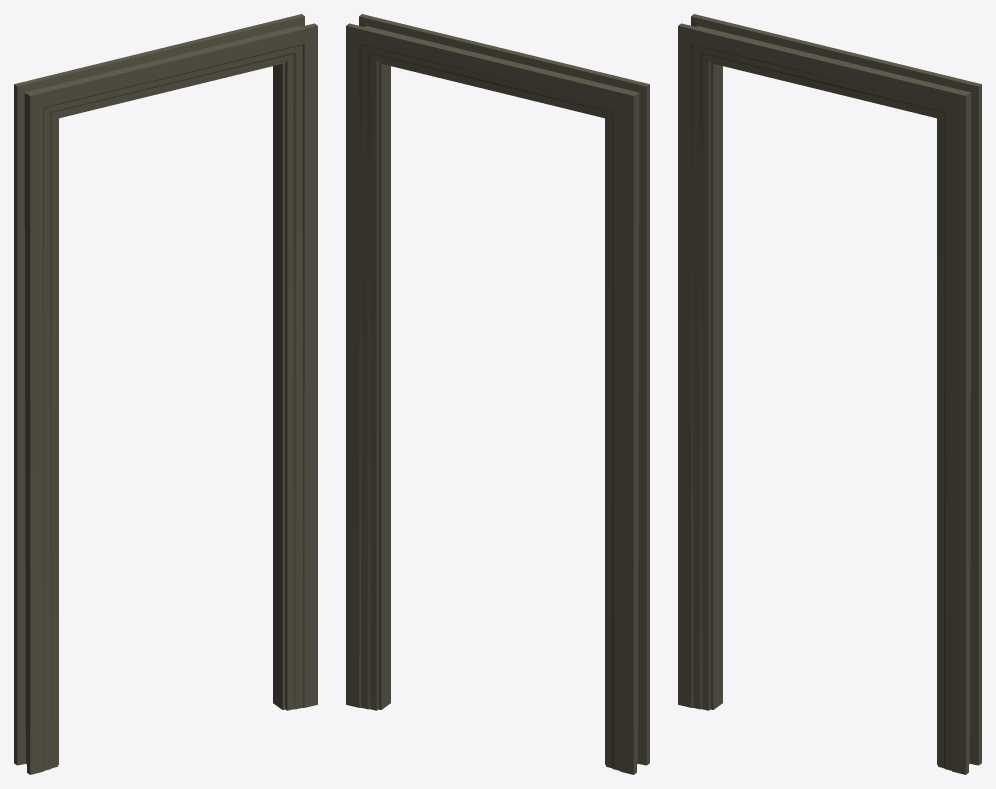
Rendered from 26_FRANKFURT_Frame.glb.
3 views of the same model, side by side, from view 1: azimuth 30°, elevation 25°; view 2: azimuth 150°, elevation 25°; view 3: azimuth 330°, elevation 25° (orthographic).
Visible parts, largest first — view 1: 26_FRANKFURT_Frame; view 2: 26_FRANKFURT_Frame; view 3: 26_FRANKFURT_Frame.
Part boxes in pixels (<box>): 26_FRANKFURT_Frame: <box>14,14,317,774</box>; 26_FRANKFURT_Frame: <box>346,14,649,774</box>; 26_FRANKFURT_Frame: <box>678,14,981,774</box>.
Size of the model in its own units: 1.04 by 2.34 by 0.1008.
